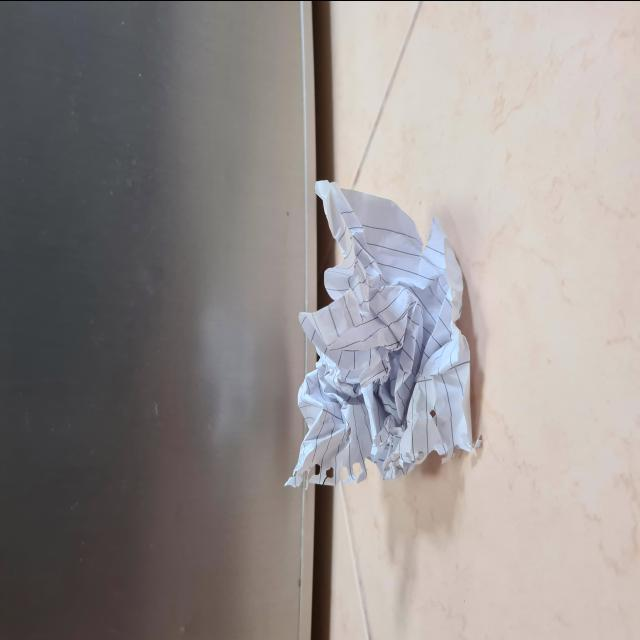Paper: (269, 156, 478, 494)
